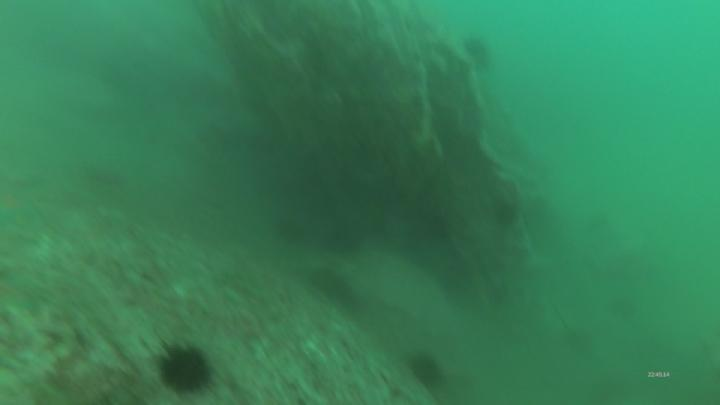echinus: (150, 336, 216, 402), (403, 349, 447, 391), (459, 34, 494, 73), (320, 226, 363, 257), (561, 324, 597, 356), (603, 293, 640, 324), (492, 198, 520, 229)
